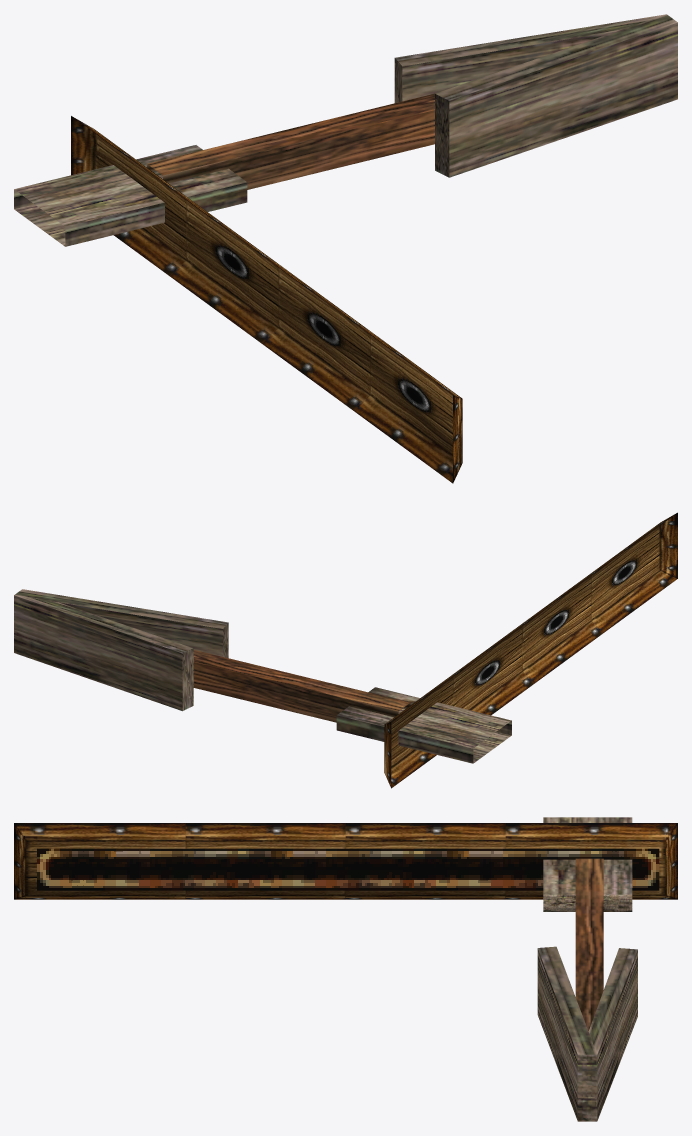
The model's file is INST_WH2_SLIDE_DAMAGE.fbx.
3 renders of one model, top to bottom at view 1: azimuth 30°, elevation 25°; view 2: azimuth 150°, elevation 25°; view 3: azimuth 270°, elevation 25°, orthographic. The views are drawn at different scales.
Parts seen in each view (by area): view 1: INST_WH2_SLIDE_DAMAGE; view 2: INST_WH2_SLIDE_DAMAGE; view 3: INST_WH2_SLIDE_DAMAGE.
Part boxes in pixels (bbox=[...]): INST_WH2_SLIDE_DAMAGE: bbox=[14, 14, 677, 483]; INST_WH2_SLIDE_DAMAGE: bbox=[14, 512, 677, 788]; INST_WH2_SLIDE_DAMAGE: bbox=[14, 817, 677, 1121].
Size of the model in its own units: 40490 by 5482 by 42372.
5 materials, 5 textured.
